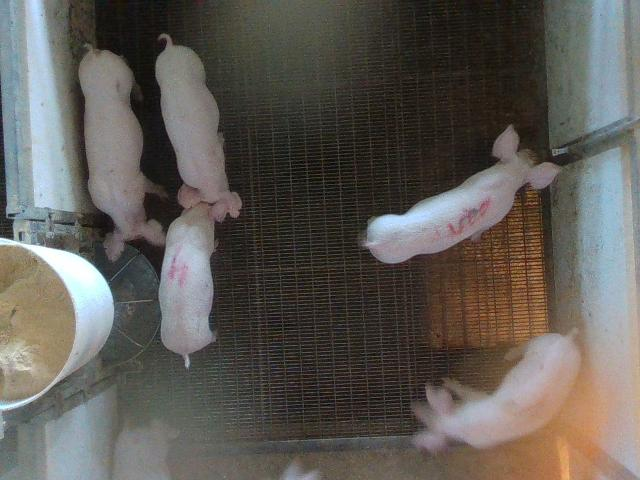pig-1: (412, 332, 581, 452)
pig-3: (362, 125, 560, 263)
pig-4: (159, 185, 241, 368)
